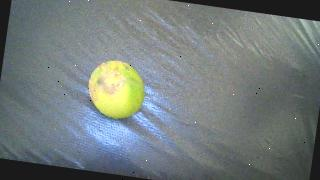DESECHO: (84, 58, 148, 123)
